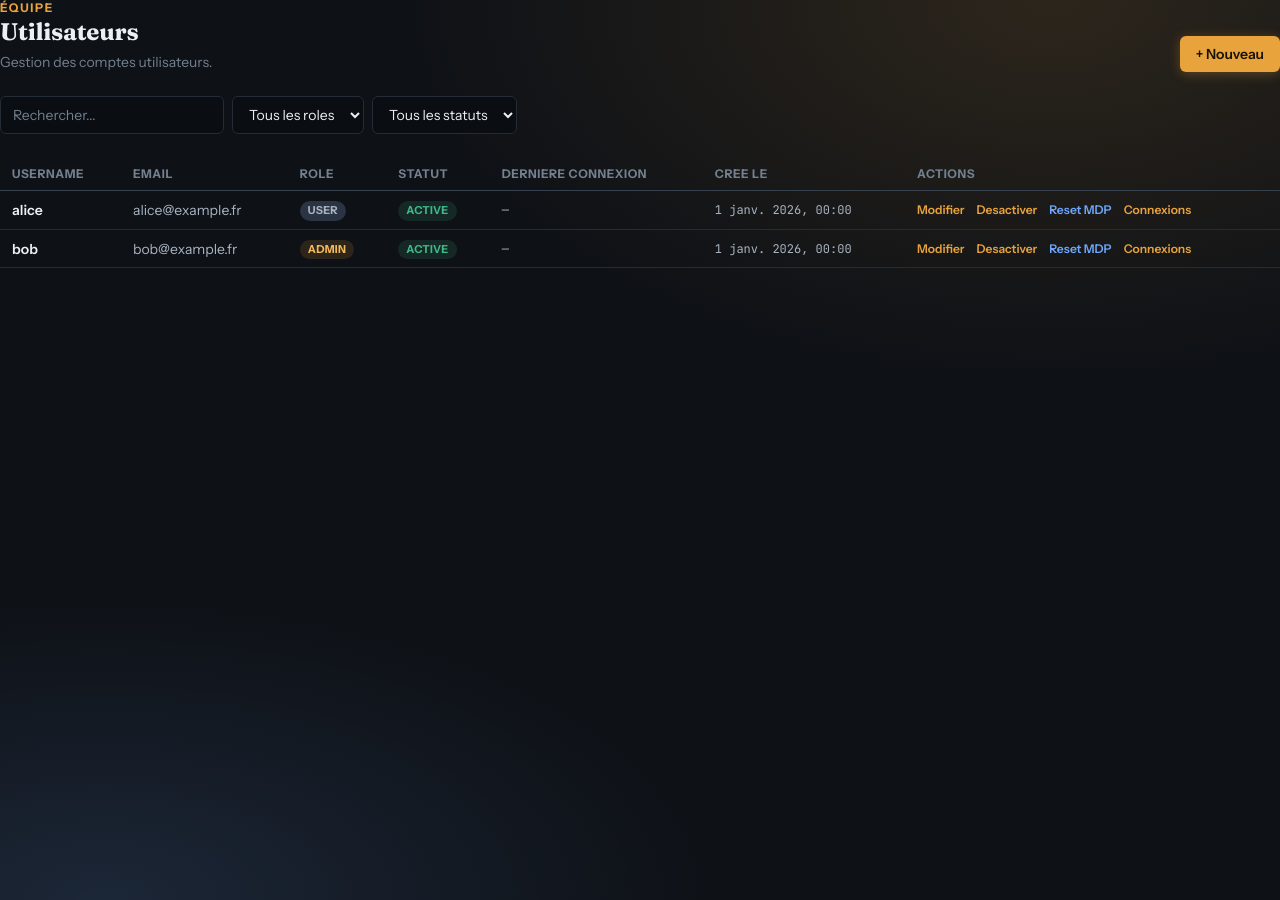
AdminUsersPage › ouvre la modale Connexions et affiche la derniere connexion et l historique
Expected: the text "alice" is shown, left=12, top=201, right=43, bottom=219
Click the button "Connexions" in the row of "alice@example.fr" at (1157, 210), box left=1124, top=202, right=1191, bottom=218
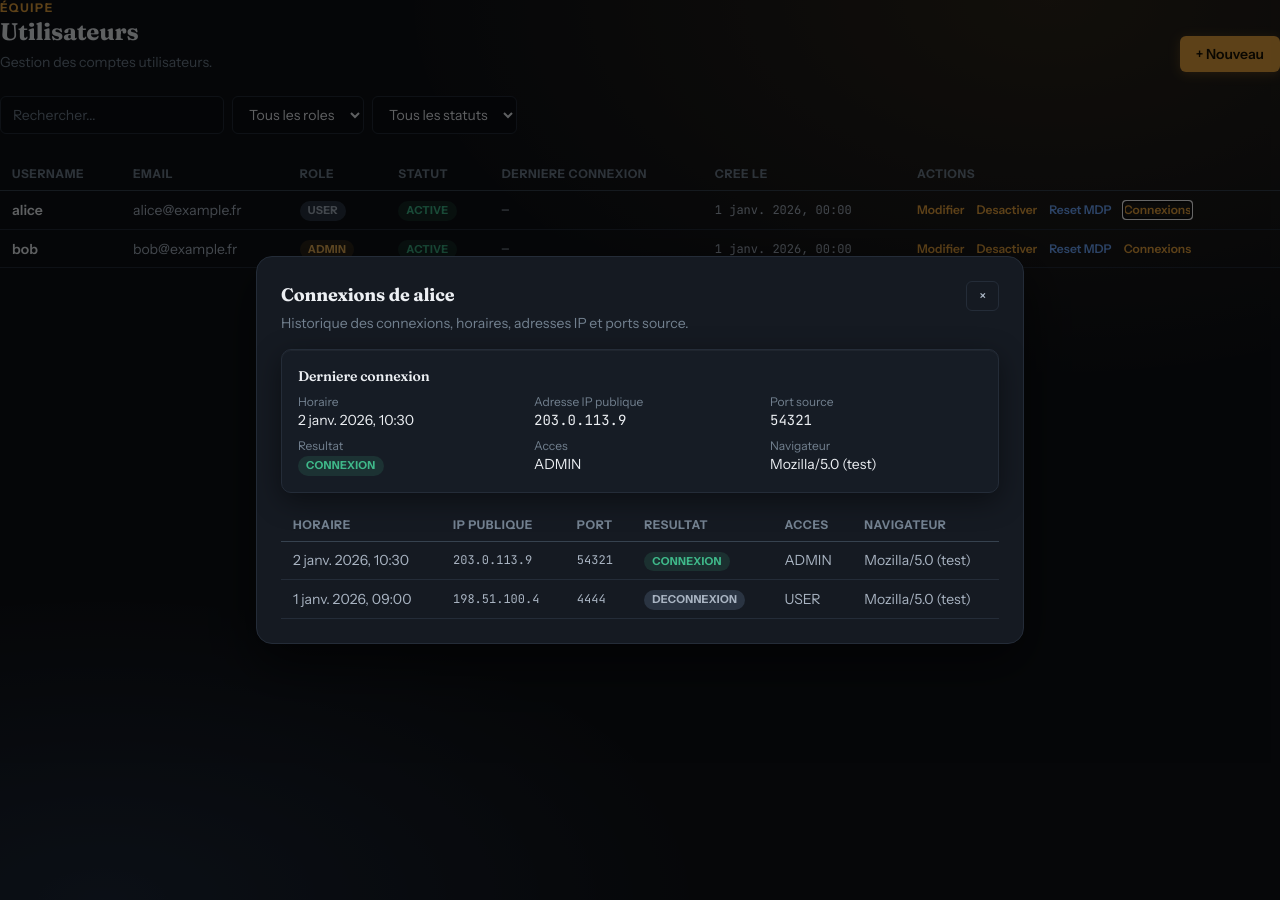
Result: the heading "Connexions de alice" is shown at left=281, top=283, right=454, bottom=306
Result: the text "203.0.113.9" is shown at left=534, top=411, right=626, bottom=429
Result: the text "54321" is shown at left=770, top=411, right=812, bottom=429
